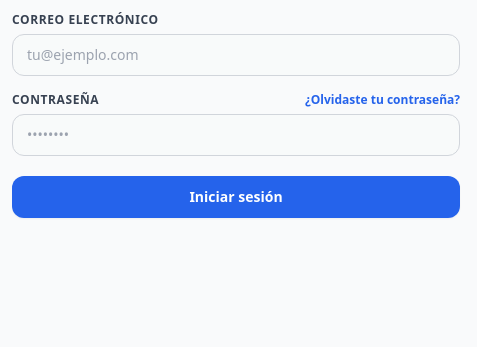
Test: Auth Forms (Spanish UI & Accessibility) › LoginForm › should display link to confirm-email when API returns EMAIL_NOT_CONFIRMED
Type "unconfirmed@example.com" into the field labelled "Correo electrónico" at (236, 55), box 12,34 -> 460,76
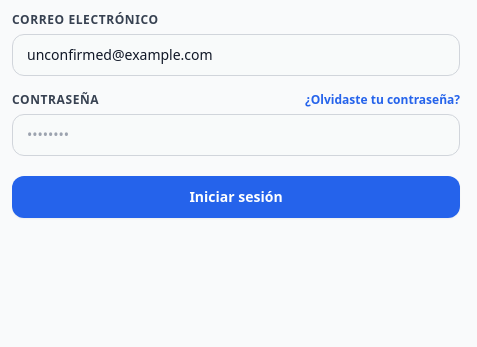
Type "Password123!" into the password field labelled "Contraseña" at (236, 135), box 12,114 -> 460,156
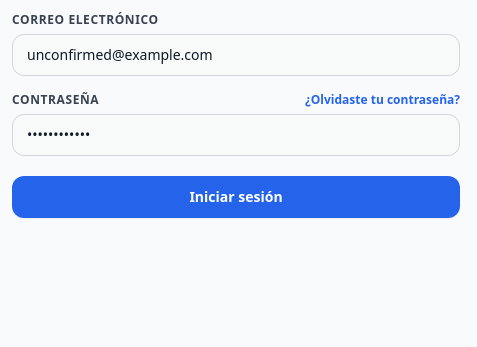
Click the button "Iniciar sesión" at (236, 197), box 12,176 -> 460,218
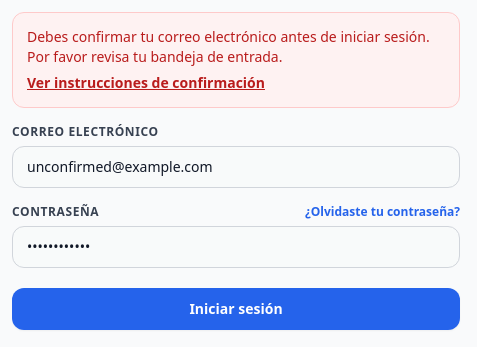
expect the message shows "Debes confirmar tu correo electrónico antes de iniciar sesión. Por favor revisa tu bandeja de entrada.": met, box 27,27 -> 430,66
